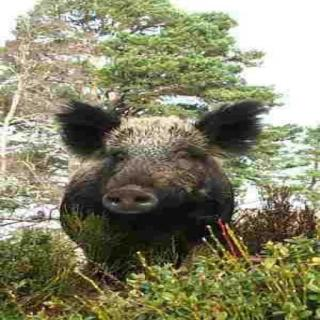Pig: (59, 81, 254, 295)
